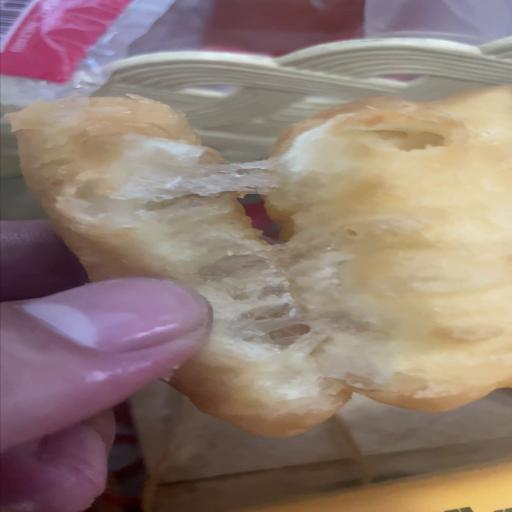street_golden_defect: (23, 89, 512, 420)
